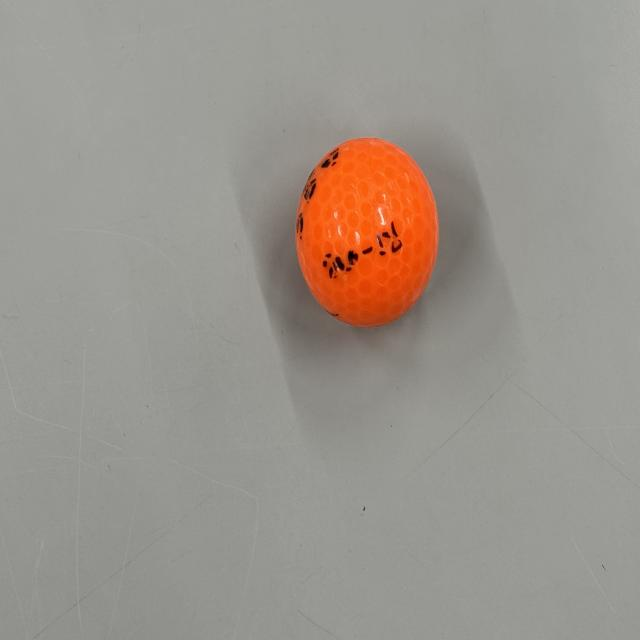ball: (294, 137, 444, 332)
